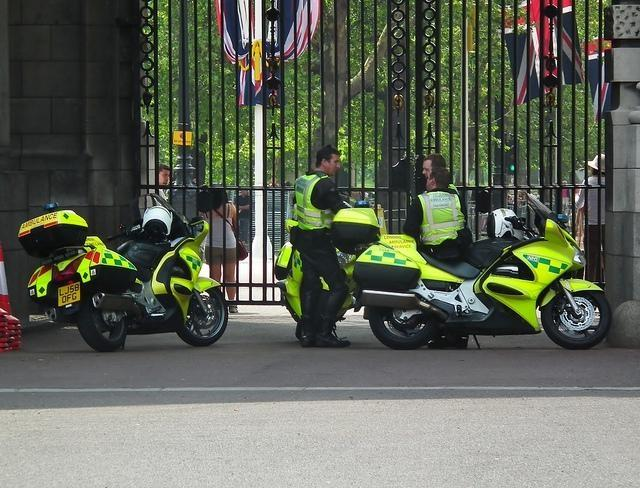motorcycle: (332, 208, 608, 348), (18, 194, 228, 355), (276, 240, 364, 320)
